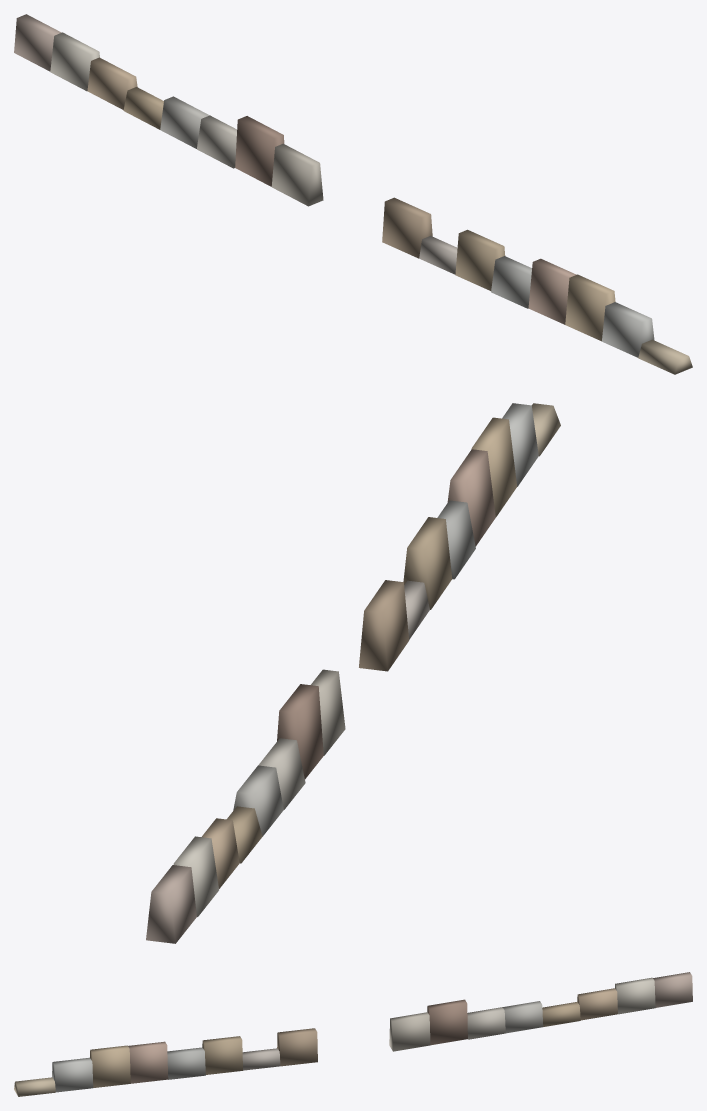
The model's file is farm_11_3_collision.glb.
3 views of the same model, one above another, from view 1: azimuth 30°, elevation 25°; view 2: azimuth 150°, elevation 25°; view 3: azimuth 270°, elevation 25° (orthographic). The views are drawn at different scales.
Visible parts, largest first — view 1: geometry_0; view 2: geometry_0; view 3: geometry_0.
Boxes of the visible parts, box(x1,y1,x2,y2) form: geometry_0: box(14, 14, 692, 374); geometry_0: box(146, 403, 560, 943); geometry_0: box(14, 972, 692, 1096).
Size of the model in its own units: 7.37 by 2.1 by 27.03.
